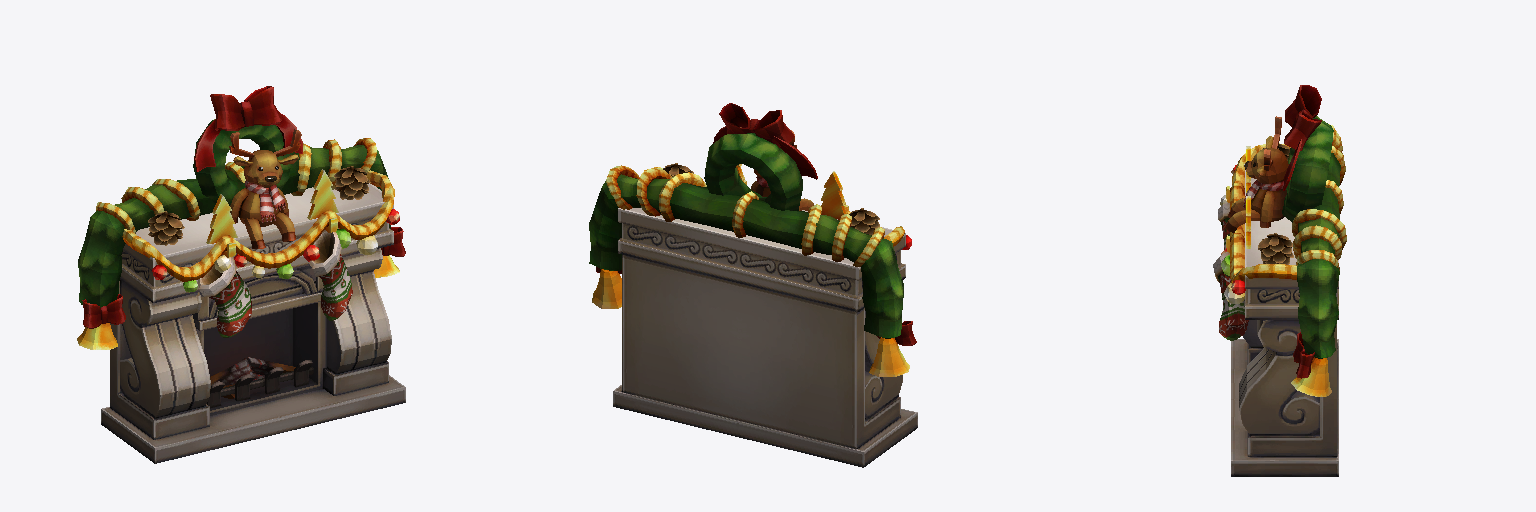
3 renders of one model, left to right at view 1: azimuth 30°, elevation 25°; view 2: azimuth 150°, elevation 25°; view 3: azimuth 270°, elevation 25°, orthographic.
Visible parts, largest first — view 1: christmasfireplace_1, christmasfireplace_0; view 2: christmasfireplace_1, christmasfireplace_0; view 3: christmasfireplace_0, christmasfireplace_1.
Boxes of the visible parts, x1,y1,x2,y2 form: christmasfireplace_1: [101, 183, 405, 463]; christmasfireplace_0: [77, 86, 405, 349]; christmasfireplace_1: [613, 208, 917, 467]; christmasfireplace_0: [589, 103, 916, 376]; christmasfireplace_0: [1213, 85, 1346, 396]; christmasfireplace_1: [1231, 170, 1338, 476].
Bounding box in the file's own units: 2.25 × 2.14 × 0.8158.
Materials: 2 (2 with a texture image).